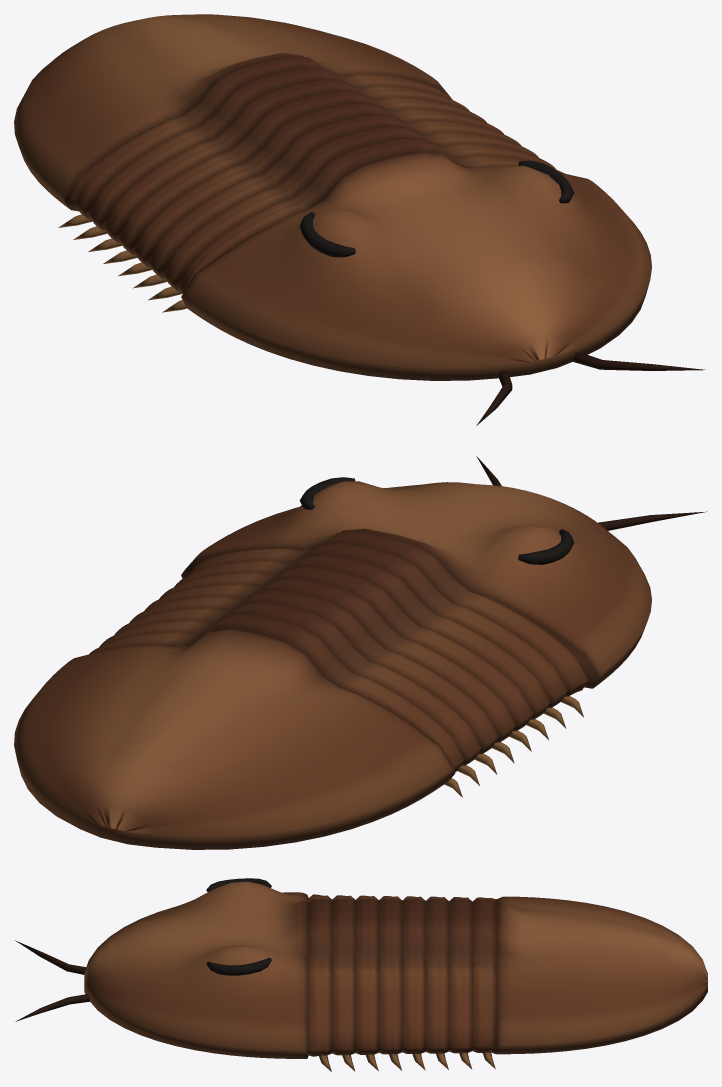
Rendered from IsotelusRex.fbx.
The picture shows the model from 3 angles, top to bottom: view 1: azimuth 30°, elevation 25°; view 2: azimuth 150°, elevation 25°; view 3: azimuth 270°, elevation 25°; orthographic projection. The views are drawn at different scales.
Parts seen in each view (by area): view 1: IsotelusRex; view 2: IsotelusRex; view 3: IsotelusRex.
Boxes of the visible parts, <box> form: IsotelusRex: <box>14,14,705,425</box>; IsotelusRex: <box>14,456,706,849</box>; IsotelusRex: <box>15,878,707,1071</box>.
Bounding box in the file's own units: 0.9096 × 0.25 × 1.78.
